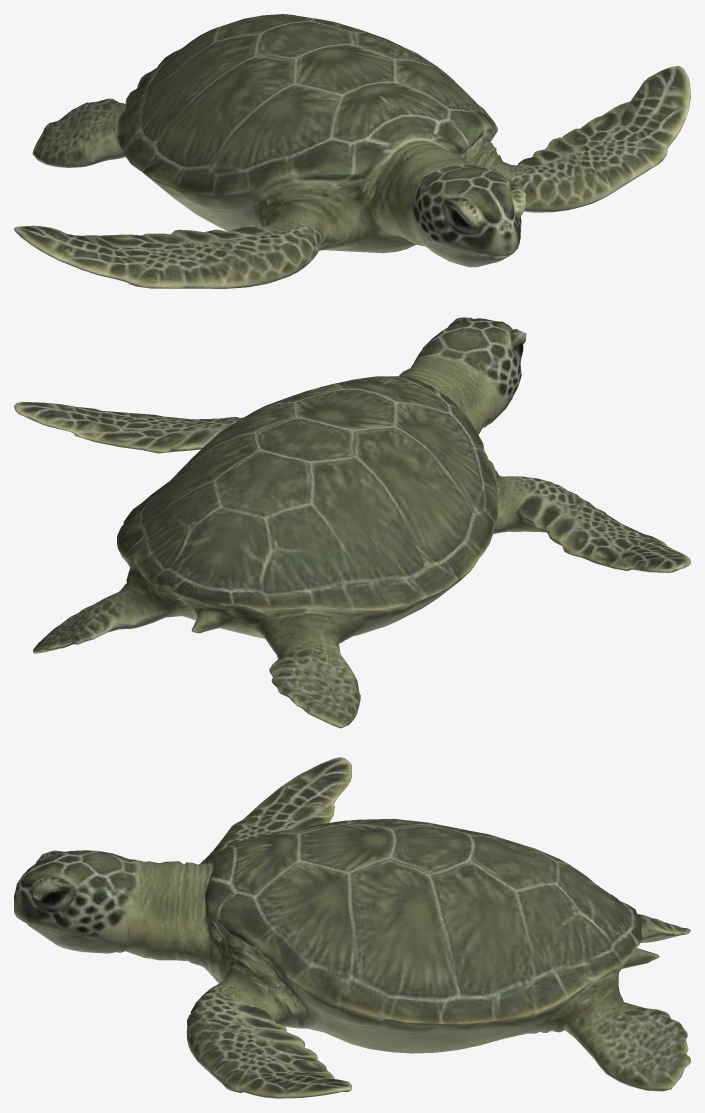
File: rescue-turtle.glb
3 renders of one model, top to bottom at view 1: azimuth 30°, elevation 25°; view 2: azimuth 150°, elevation 25°; view 3: azimuth 270°, elevation 25°, orthographic. The views are drawn at different scales.
Visible parts, largest first — view 1: Mesh_0; view 2: Mesh_0; view 3: Mesh_0.
Part boxes in pixels (bbox=[...]): Mesh_0: bbox=[14, 14, 690, 288]; Mesh_0: bbox=[14, 317, 690, 728]; Mesh_0: bbox=[14, 757, 690, 1098].
Bounding box in the file's own units: 1.9 × 0.5011 × 1.63.
Materials: 1 (1 with a texture image).
